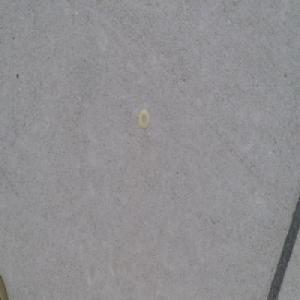Washer: (138, 108, 150, 130)
